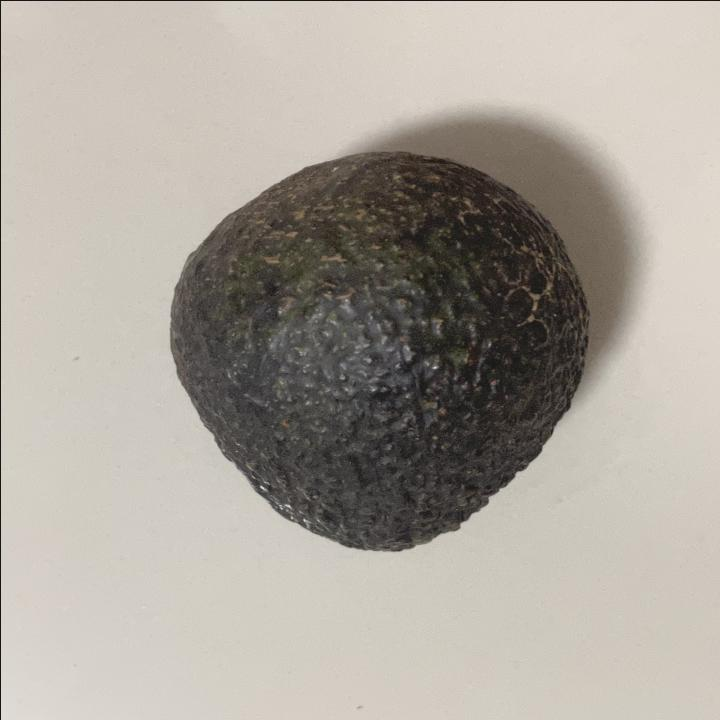Level2: (158, 144, 598, 558)
